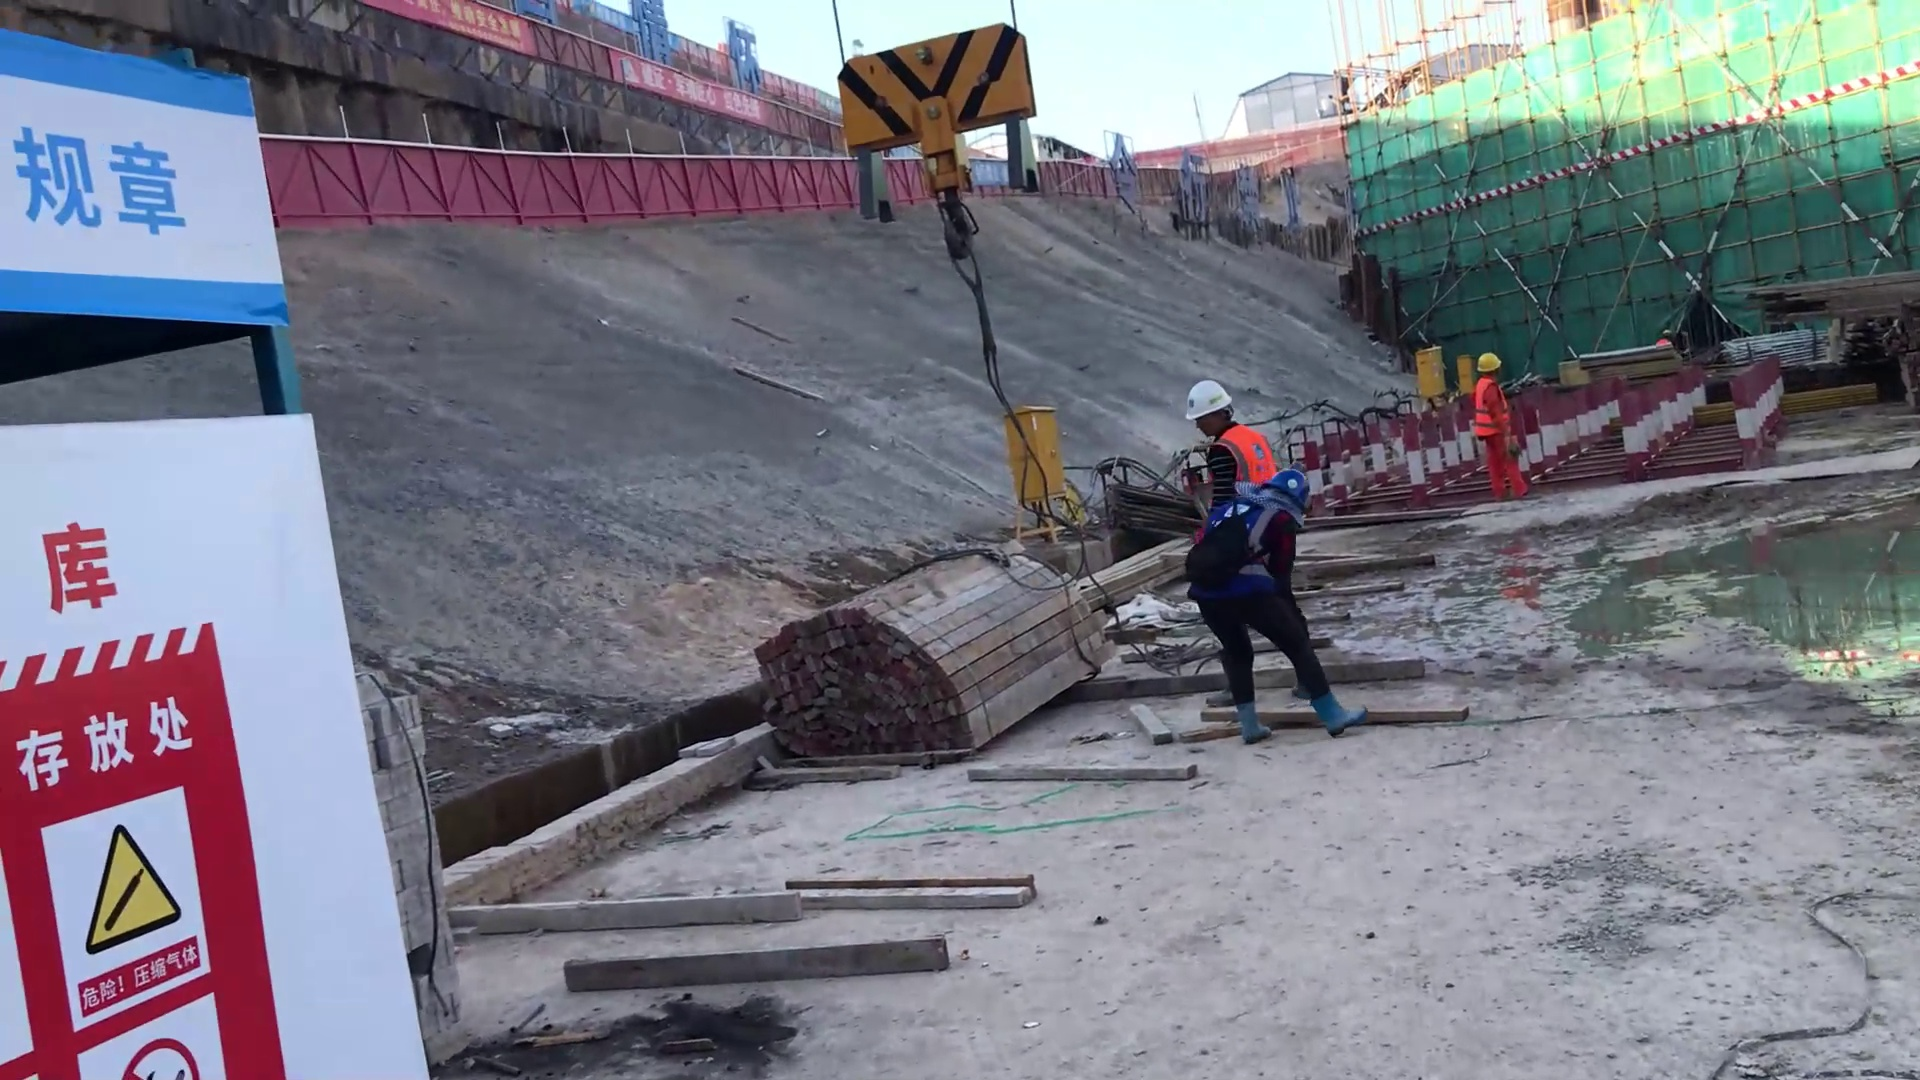brick: (358, 692, 486, 1049)
ebox: (978, 386, 1091, 522), (1409, 346, 1447, 398)
fence: (271, 127, 832, 226)
helmet: (1254, 457, 1312, 506), (1178, 376, 1230, 423), (1465, 352, 1513, 393)
hook: (826, 30, 1066, 209)
person: (1185, 463, 1367, 747), (1180, 382, 1275, 488), (1468, 352, 1535, 499)
slogan: (1, 677, 284, 1068)
vest: (1211, 430, 1270, 484), (1467, 385, 1507, 438)
wood: (730, 552, 1121, 786), (1744, 267, 1920, 327)
